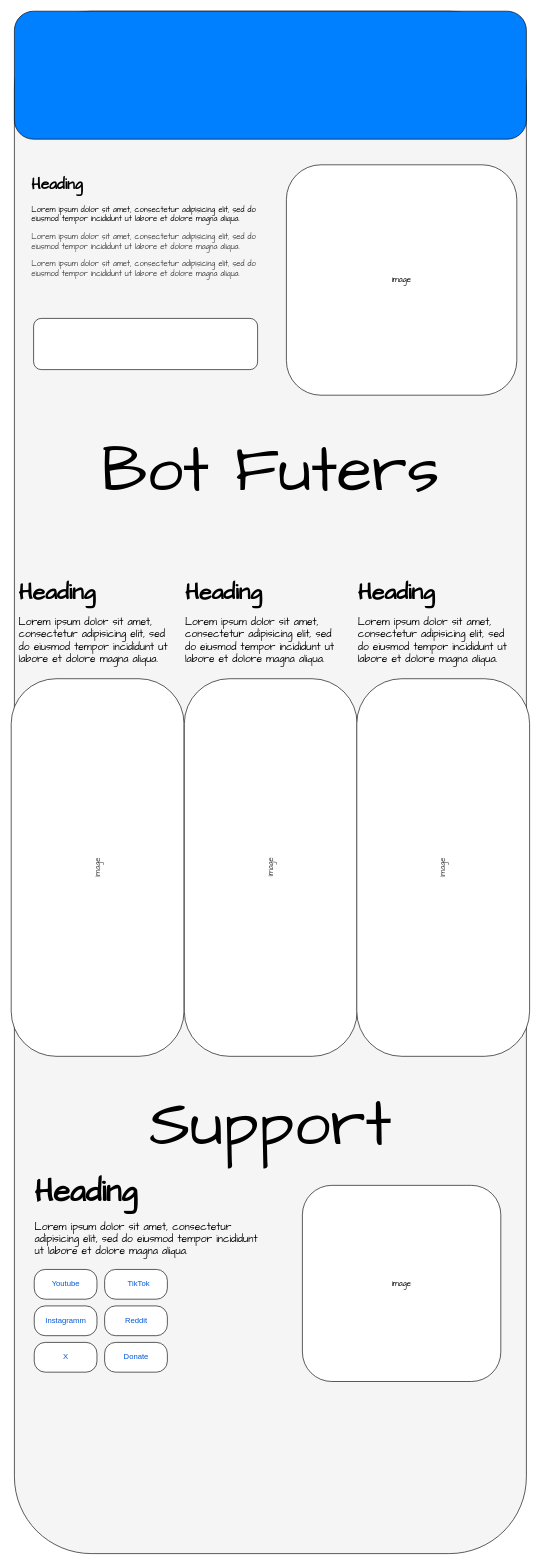
The diagram is 541 pixels wide and 1565 high, and some of its shapes have lost their labels. The shapes that lost their labels are listed below. From the top down, each one's box as (x1, y1, x2, y2) in pixels, then its label:
(14, 11, 526, 139): MotivX
(33, 318, 258, 370): get bot
